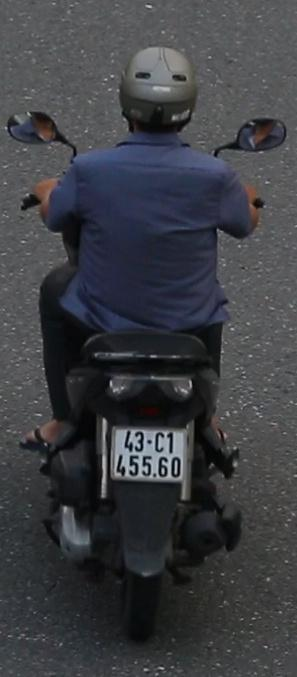LP: (108, 419, 195, 489)
helmet: (118, 39, 204, 151)
